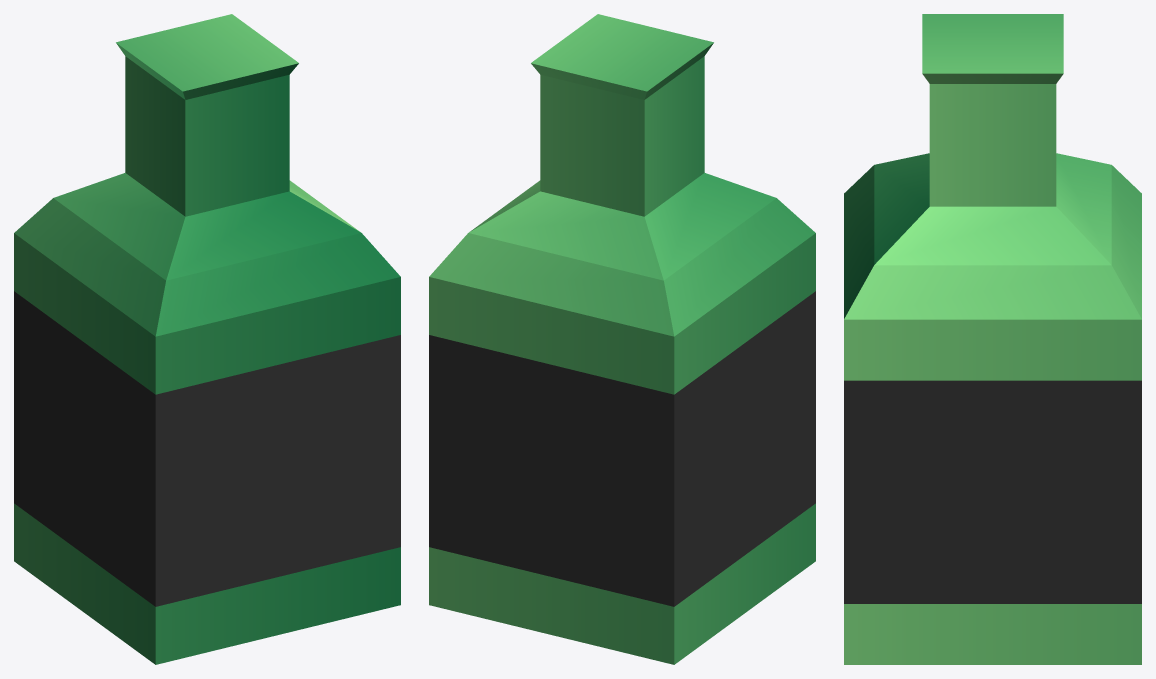
Rendered from B01_bouteille_2_c.fbx.
3 renders of one model, left to right at view 1: azimuth 30°, elevation 25°; view 2: azimuth 150°, elevation 25°; view 3: azimuth 270°, elevation 25°, orthographic. The views are drawn at different scales.
Parts seen in each view (by area): view 1: B01_bouteille_2_c; view 2: B01_bouteille_2_c; view 3: B01_bouteille_2_c.
Part boxes in pixels (x1,y1,x2,y2): B01_bouteille_2_c: [14, 14, 400, 664]; B01_bouteille_2_c: [429, 14, 815, 664]; B01_bouteille_2_c: [844, 14, 1141, 664].
Size of the model in its own units: 10.81 by 22.35 by 10.81.
